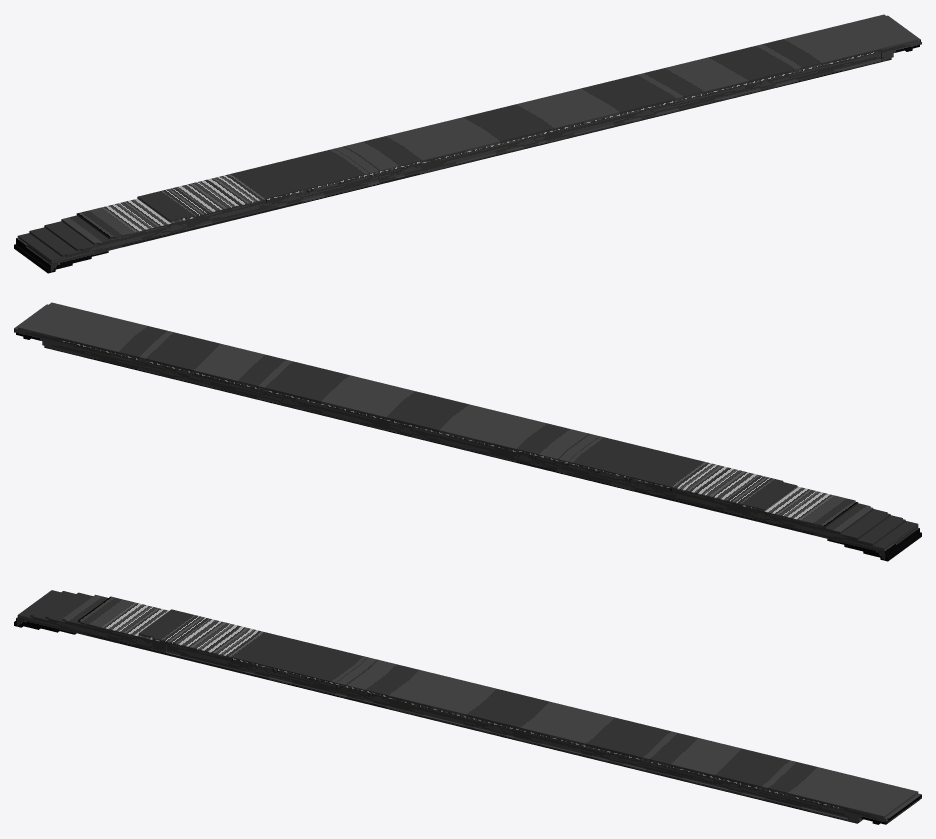
The model's file is floor1.glb.
3 renders of one model, top to bottom at view 1: azimuth 30°, elevation 25°; view 2: azimuth 150°, elevation 25°; view 3: azimuth 330°, elevation 25°, orthographic.
Parts seen in each view (by area): view 1: floor 1; view 2: floor 1; view 3: floor 1.
Boxes of the visible parts, x1,y1,x2,y2 form: floor 1: (14,14,921,273); floor 1: (14,302,921,561); floor 1: (14,590,921,824).
Size of the model in its own units: 4.62 by 0.1106 by 0.3116.
Materials: 1 (1 with a texture image).
